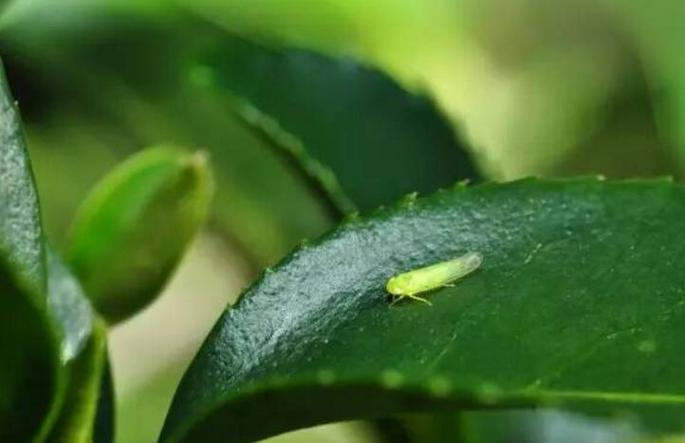Cicadellidae: (384, 253, 484, 307)
